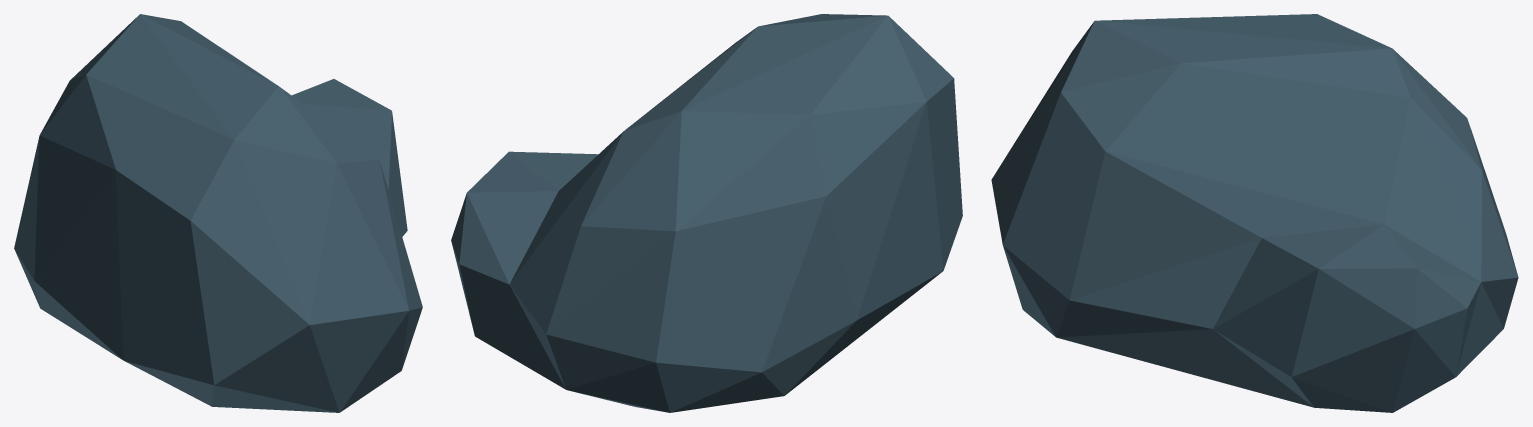
The model's file is rock small 1.fbx.
3 renders of one model, left to right at view 1: azimuth 30°, elevation 25°; view 2: azimuth 150°, elevation 25°; view 3: azimuth 270°, elevation 25°, orthographic. The views are drawn at different scales.
Parts seen in each view (by area): view 1: rock small 1; view 2: rock small 1; view 3: rock small 1.
Part boxes in pixels (x1,y1,x2,y2): rock small 1: (14, 14, 422, 412); rock small 1: (451, 14, 962, 412); rock small 1: (991, 14, 1518, 412).
Size of the model in its own units: 26.95 by 20.45 by 34.42.
